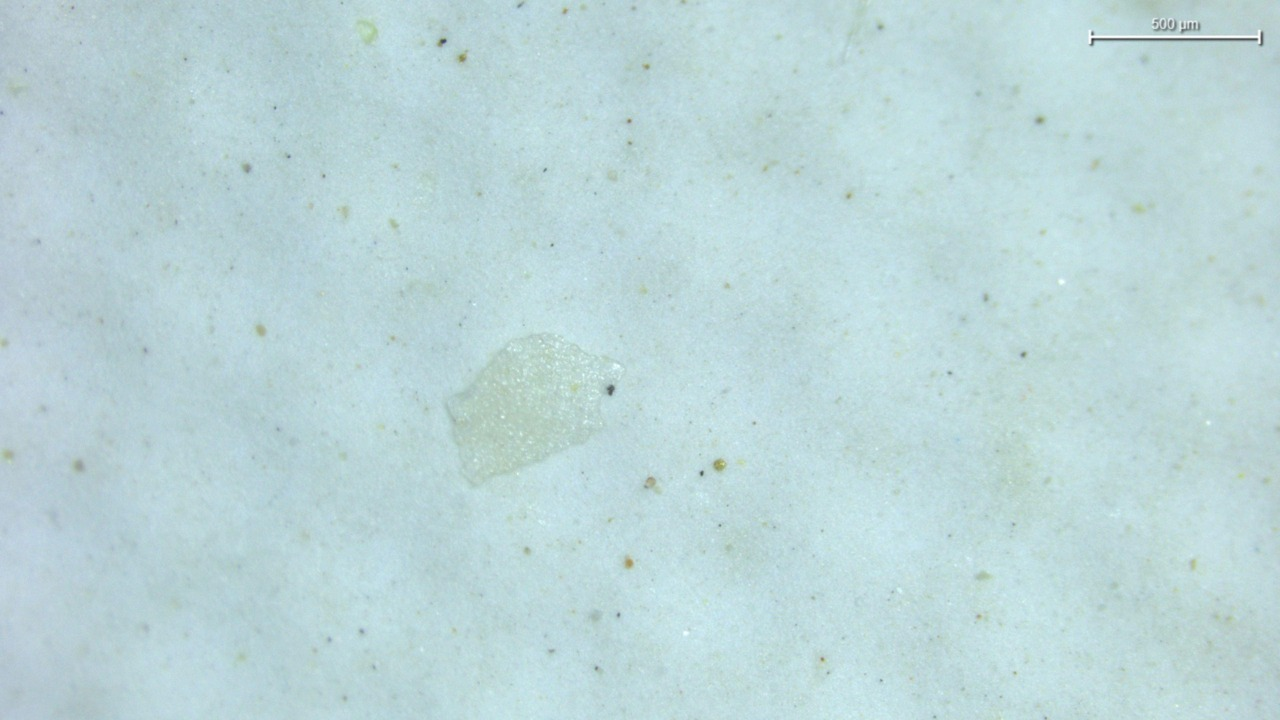microplastic_fragment: (448, 334, 624, 483)
